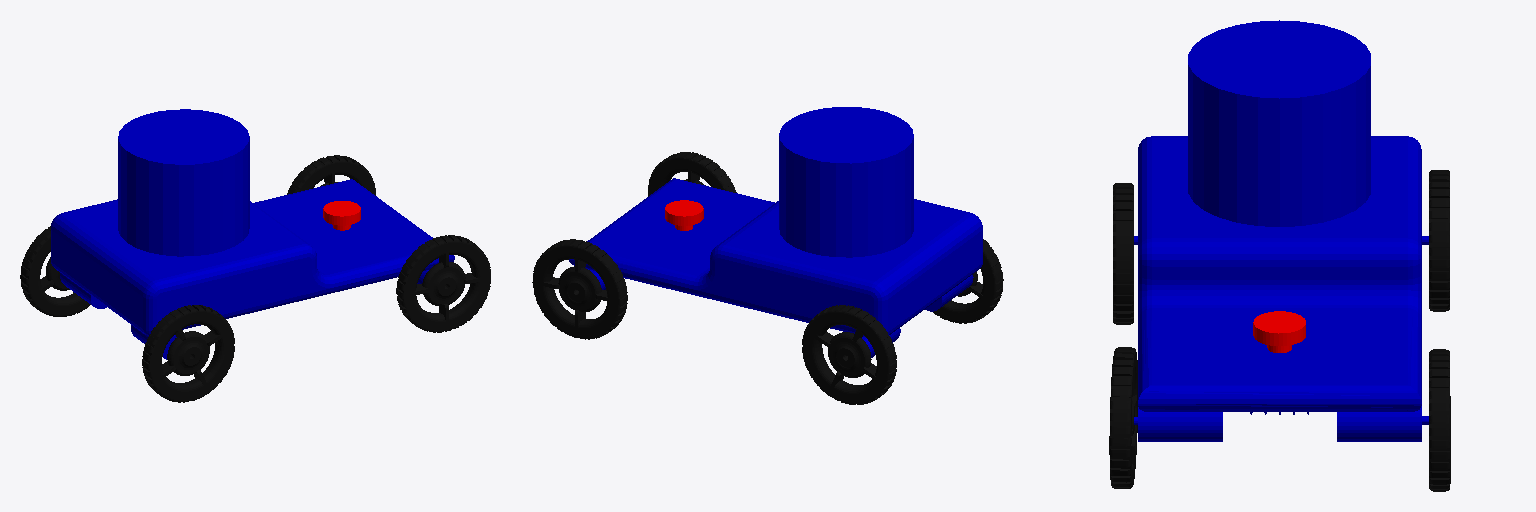
The robot description file, URDF, robot "robot_ros":
<?xml version="1.0"?>
<robot name="robot_ros">

  <!-- BASE -->
  <link name="base_link">
    <inertial>
      <origin xyz="0.125 0 0.05" rpy="0 0 0"/>
      <mass value="4.4"/>
      <inertia ixx="0.03" ixy="0" ixz="0" iyy="0.03" iyz="0" izz="0.03"/>
    </inertial>

    <visual>
      <origin xyz="0 0 0" rpy="0 0 0"/>
      <geometry>
        <mesh filename="package://robot_ros/meshes/base_link.STL"/>
      </geometry>
      <material name="blue">
        <color rgba="0 0 0.8 1"/>
      </material>
    </visual>

    <collision>
      <origin xyz="0.125 0 0.05" rpy="0 0 0"/>
      <geometry>
        <box size="0.4 0.2 0.1"/>
      </geometry>
    </collision>
  </link>

  <!-- BACK LEFT -->
  <link name="back_left_wheel">
    <inertial>
      <mass value="0.2"/>
      <inertia ixx="0.0001" ixy="0" ixz="0" iyy="0.0001" iyz="0" izz="0.0001"/>
    </inertial>
    <visual>
      <origin xyz="0.000136 0 0" rpy="0 0 0"/>
      <geometry>
        <mesh filename="package://robot_ros/meshes/back_left_wheel.STL"/>
      </geometry>
      <material name="black">
        <color rgba="0.1 0.1 0.1 1"/>
      </material>
    </visual>
    <collision>
      <!-- Rotate cylinder to align with Y-axis mesh -->
      <origin xyz="0 0 0" rpy="1.5708 0 0"/>
      <geometry>
        <cylinder radius="0.05" length="0.03"/>
      </geometry>
    </collision>
  </link>

  <joint name="back_left_wheel_joint" type="continuous">
    <parent link="base_link"/>
    <child link="back_left_wheel"/>
    <!-- Physically symmetric location for DiffDrive -->
    <origin xyz="0.03 0.12 -0.0125" rpy="0 0 0"/>
    <axis xyz="0 1 0"/>
  </joint>

  <!-- FRONT LEFT -->
  <link name="front_left_wheel">
    <inertial>
      <mass value="0.2"/>
      <inertia ixx="0.0001" ixy="0" ixz="0" iyy="0.0001" iyz="0" izz="0.0001"/>
    </inertial>
    <visual>
      <origin xyz="-0.03 -0.12 0.0025" rpy="1.5708 0 -0.42"/>
      <geometry>
        <mesh filename="package://robot_ros/meshes/front_left_wheel.STL"/>
      </geometry>
      <material name="black">
        <color rgba="0.1 0.1 0.1 1"/>
      </material>
    </visual>
    <collision>
      <origin xyz="0 0 0" rpy="1.5708 0 0"/>
      <geometry>
        <cylinder radius="0.05" length="0.03"/>
      </geometry>
    </collision>
  </link>

  <joint name="front_left_wheel_joint" type="continuous">
    <parent link="base_link"/>
    <child link="front_left_wheel"/>
    <origin xyz="0.33 0.12 -0.0125" rpy="0 0 0"/>
    <axis xyz="0 1 0"/>
  </joint>

  <!-- BACK RIGHT -->
  <link name="back_right_wheel">
    <inertial>
      <mass value="0.2"/>
      <inertia ixx="0.0001" ixy="0" ixz="0" iyy="0.0001" iyz="0" izz="0.0001"/>
    </inertial>
    <visual>
      <origin xyz="-0.01 0.11 0.3125" rpy="0 0 3.1416"/>
      <geometry>
        <mesh filename="package://robot_ros/meshes/back_right_wheel.STL"/>
      </geometry>
      <material name="black">
        <color rgba="0.1 0.1 0.1 1"/>
      </material>
    </visual>
    <collision>
      <origin xyz="0 0 0" rpy="1.5708 0 0"/>
      <geometry>
        <cylinder radius="0.05" length="0.03"/>
      </geometry>
    </collision>
  </link>

  <joint name="back_right_wheel_joint" type="continuous">
    <parent link="base_link"/>
    <child link="back_right_wheel"/>
    <origin xyz="0.03 -0.12 -0.0125" rpy="0 0 0"/>
    <axis xyz="0 1 0"/>
  </joint>

  <!-- FRONT RIGHT -->
  <link name="front_right_wheel">
    <inertial>
      <mass value="0.2"/>
      <inertia ixx="0.0001" ixy="0" ixz="0" iyy="0.0001" iyz="0" izz="0.0001"/>
    </inertial>
    <visual>
      <origin xyz="0.27 -0.025 -0.0925" rpy="1.5708 0 1"/>
      <geometry>
        <mesh filename="package://robot_ros/meshes/front_right_wheel.STL"/>
      </geometry>
      <material name="black">
        <color rgba="0.1 0.1 0.1 1"/>
      </material>
    </visual>
    <collision>
      <origin xyz="0 0 0" rpy="1.5708 0 0"/>
      <geometry>
        <cylinder radius="0.05" length="0.03"/>
      </geometry>
    </collision>
  </link>

  <joint name="front_right_wheel_joint" type="continuous">
    <parent link="base_link"/>
    <child link="front_right_wheel"/>
    <origin xyz="0.33 -0.12 -0.0125" rpy="0 0 0"/>
    <axis xyz="0 1 0"/>
  </joint>

  <!-- LIDAR -->
  <link name="lidar_link">
    <visual>
      <geometry>
        <mesh filename="package://robot_ros/meshes/lidar_link.STL"/>
      </geometry>
      <material name="red">
        <color rgba="1 0 0 1"/>
      </material>
    </visual>
    <collision>
      <geometry>
        <cylinder radius="0.03" length="0.05"/>
      </geometry>
    </collision>
  </link>

  <joint name="lidar_joint" type="fixed">
    <parent link="base_link"/>
    <child link="lidar_link"/>
    <!-- Updated Lidar Joint per user's request -->
    <origin xyz="0.279 0 0.04" rpy="0 0 0"/>
  </joint>

  <!-- GAZEBO PLUGINS -->
  <gazebo>
    <plugin
      filename="ignition-gazebo-diff-drive-system"
      name="ignition::gazebo::systems::DiffDrive">
      <left_joint>back_left_wheel_joint</left_joint>
      <left_joint>front_left_wheel_joint</left_joint>
      <right_joint>back_right_wheel_joint</right_joint>
      <right_joint>front_right_wheel_joint</right_joint>
      <wheel_separation>0.24</wheel_separation>
      <wheel_radius>0.05</wheel_radius>
      <odom_publish_frequency>30</odom_publish_frequency>
      <topic>cmd_vel</topic>
    </plugin>

    <plugin
      filename="ignition-gazebo-sensors-system"
      name="ignition::gazebo::systems::Sensors">
      <render_engine>ogre</render_engine>
    </plugin>

    <!-- Publishes joint states so robot_state_publisher can build the TF tree -->
    <plugin
      filename="ignition-gazebo-joint-state-publisher-system"
      name="ignition::gazebo::systems::JointStatePublisher">
    </plugin>
  </gazebo>

</robot>

--- What the picture shows (computed from the rendered views, not written in the file) ---
3 views of the same robot in one strip: view 1: azimuth 30°, elevation 25°; view 2: azimuth 150°, elevation 25°; view 3: azimuth 270°, elevation 25° (orthographic).
Robot: robot_ros — 6 links, 5 joints (4 continuous, 1 fixed); root link base_link; default pose: all joints at 0.
Links seen in each view (by area): view 1: base_link, front_right_wheel, back_right_wheel, back_left_wheel, front_left_wheel, lidar_link; view 2: base_link, back_left_wheel, front_left_wheel, back_right_wheel, front_right_wheel, lidar_link; view 3: base_link, front_right_wheel, front_left_wheel, back_right_wheel, back_left_wheel, lidar_link.
Link boxes in pixels (x1,y1,x2,y2): base_link: (51,109,454,359); front_right_wheel: (396,235,490,332); back_right_wheel: (142,305,234,402); back_left_wheel: (20,226,90,316); front_left_wheel: (287,155,375,195); lidar_link: (323,201,360,230); base_link: (569,107,982,357); back_left_wheel: (802,305,896,404); front_left_wheel: (532,239,627,339); back_right_wheel: (933,239,1003,323); front_right_wheel: (648,152,736,196); lidar_link: (665,200,703,230); base_link: (1134,20,1428,441); front_right_wheel: (1109,347,1137,488); front_left_wheel: (1429,349,1450,491); back_right_wheel: (1113,183,1133,324); back_left_wheel: (1429,170,1449,311); lidar_link: (1253,311,1305,352).
Bounding box of the posed robot: 0.4016 × 0.2401 × 0.228 m (x, y, z).
6 mesh visuals loaded from 6 distinct referenced files (6 binary STL).
